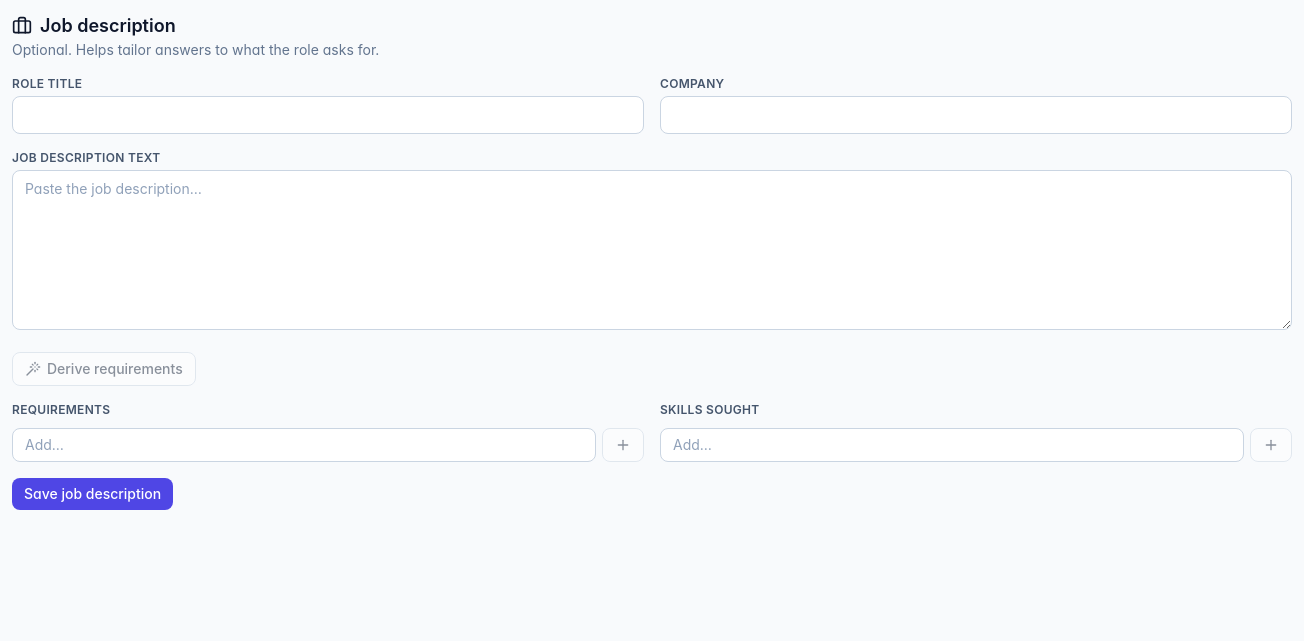
Test case: JobDescriptionEditor › derives requirements and saves edits
Type "We need strong Kubernetes and distributed systems experience." into the text box with test id "job-text".
click(652, 250); type("We need strong Kubernetes and distributed systems experience.")  # box [12,170,1292,330]
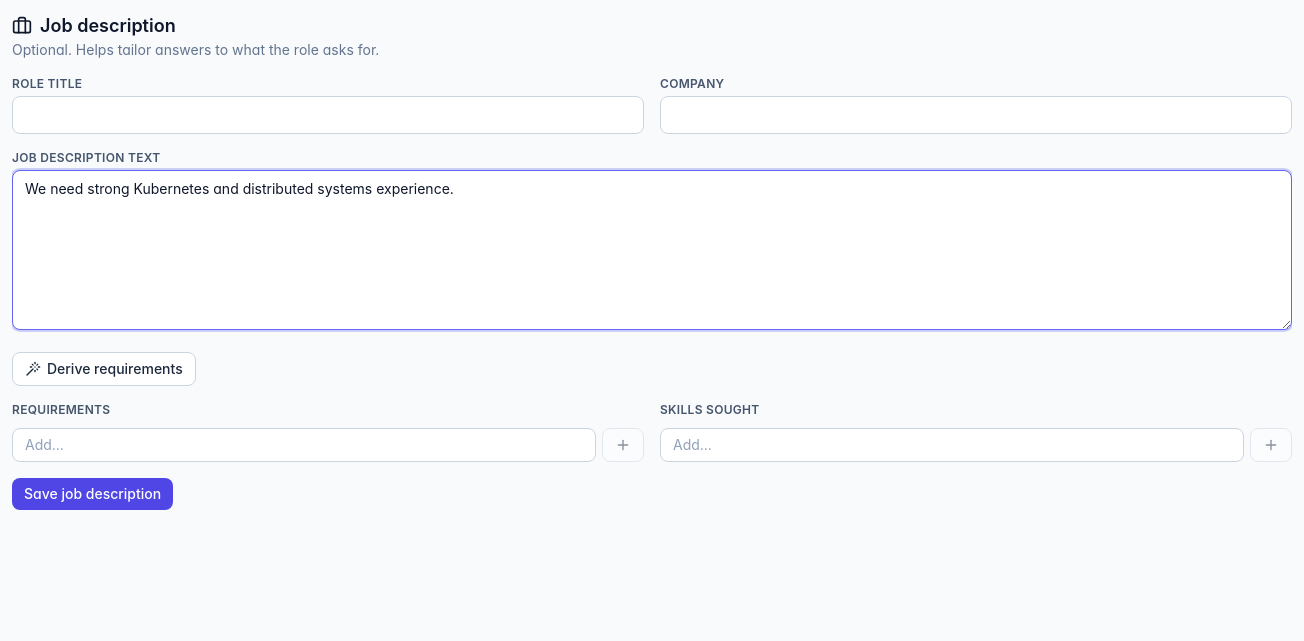
Click the button with test id "analyze-job".
click(104, 369)  # box [12,352,196,386]
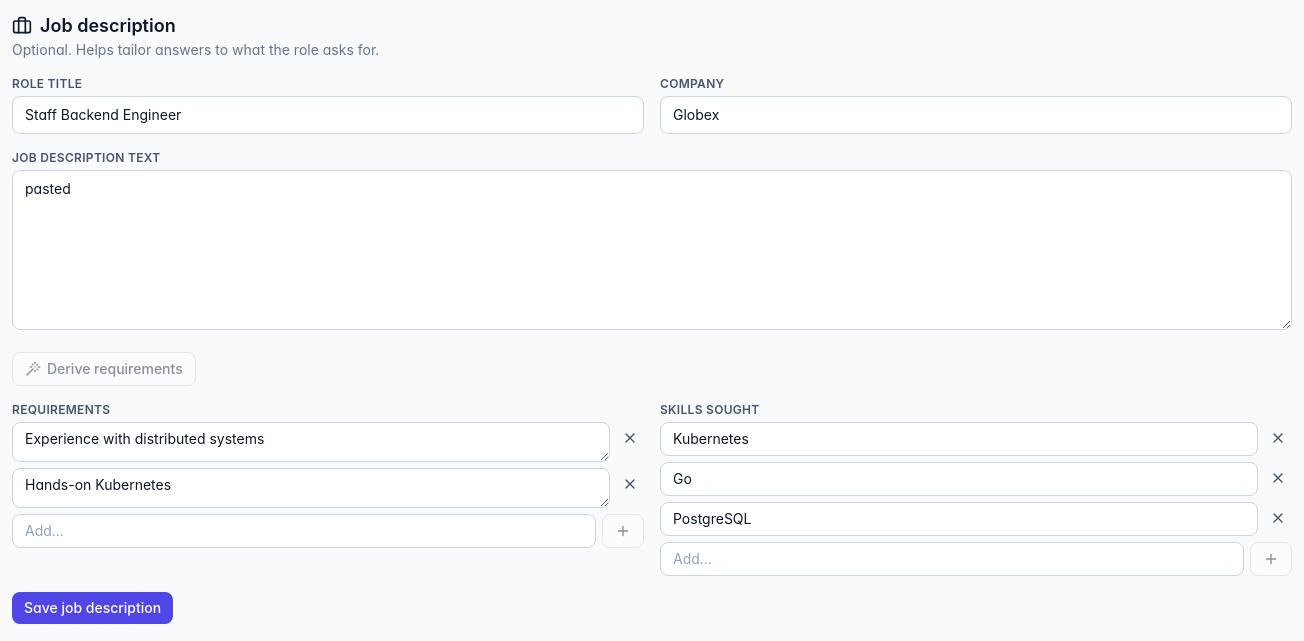
Result: the text box showing "Hands-on Kubernetes" is shown at [12,468,610,508]
Click the button with test id "save-job".
click(93, 608)  # box [12,592,173,624]
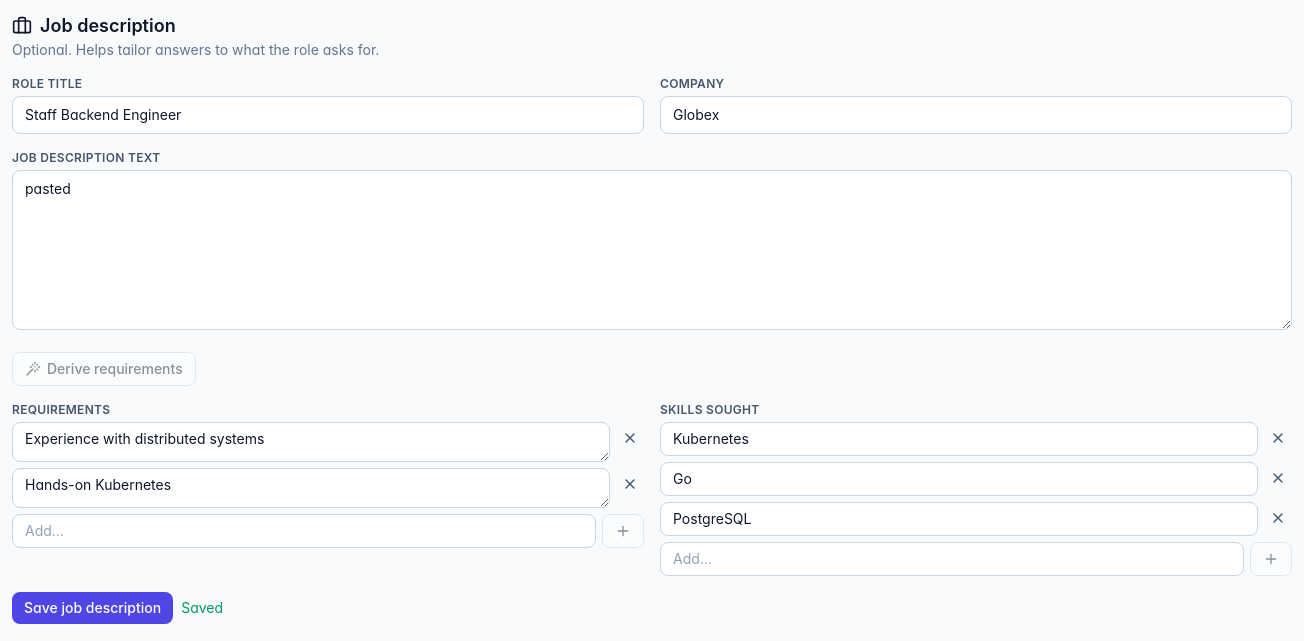
Result: the text "Saved" is shown at [181,598,223,618]
